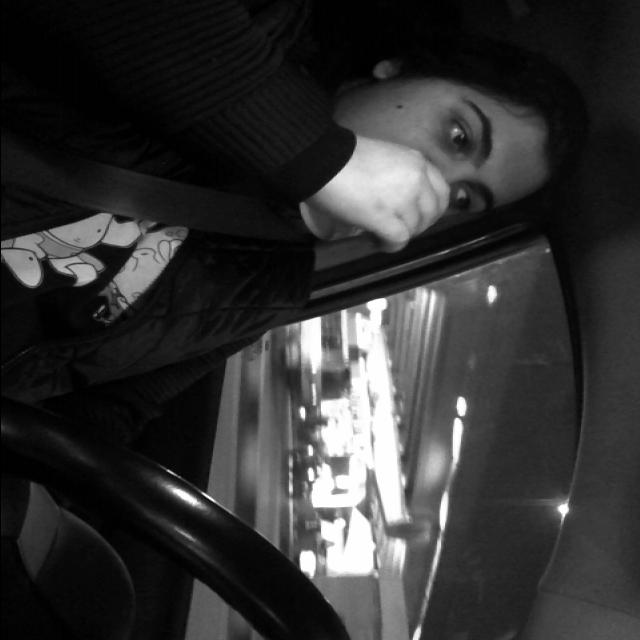drinking: (281, 164, 424, 248)
